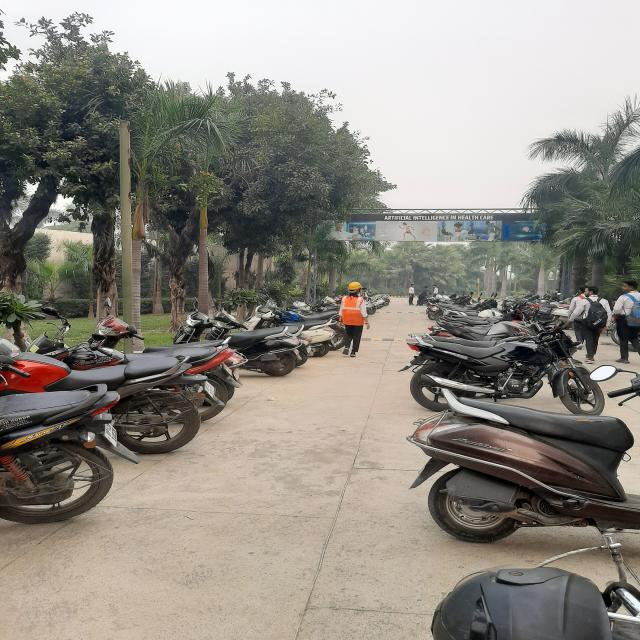safe: (338, 280, 370, 358)
unsafe: (565, 284, 611, 364), (612, 280, 640, 364), (408, 283, 416, 306), (432, 284, 440, 297)
